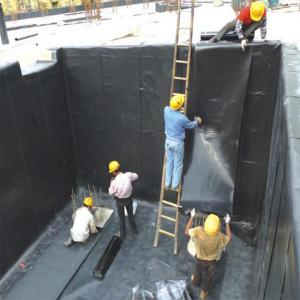yellow: (206, 213, 222, 238), (251, 2, 265, 25), (171, 96, 186, 114), (110, 160, 120, 178), (83, 197, 94, 213)
